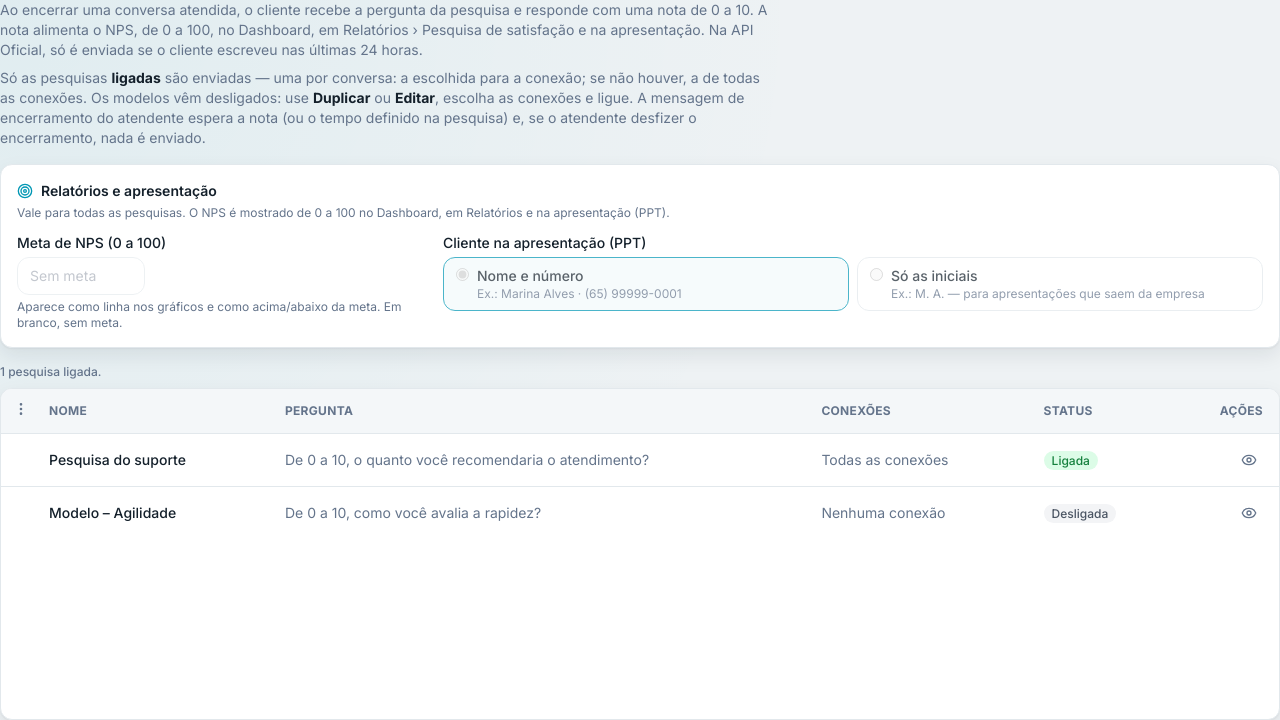
Scenario: Respostas › Pesquisa: lista de pesquisas › quem só pode ver abre a pesquisa travada, sem criar, duplicar nem excluir
Click the button named "Ver Pesquisa do suporte" at [1249, 460], box [1235, 446, 1263, 474]
(page scrolled)
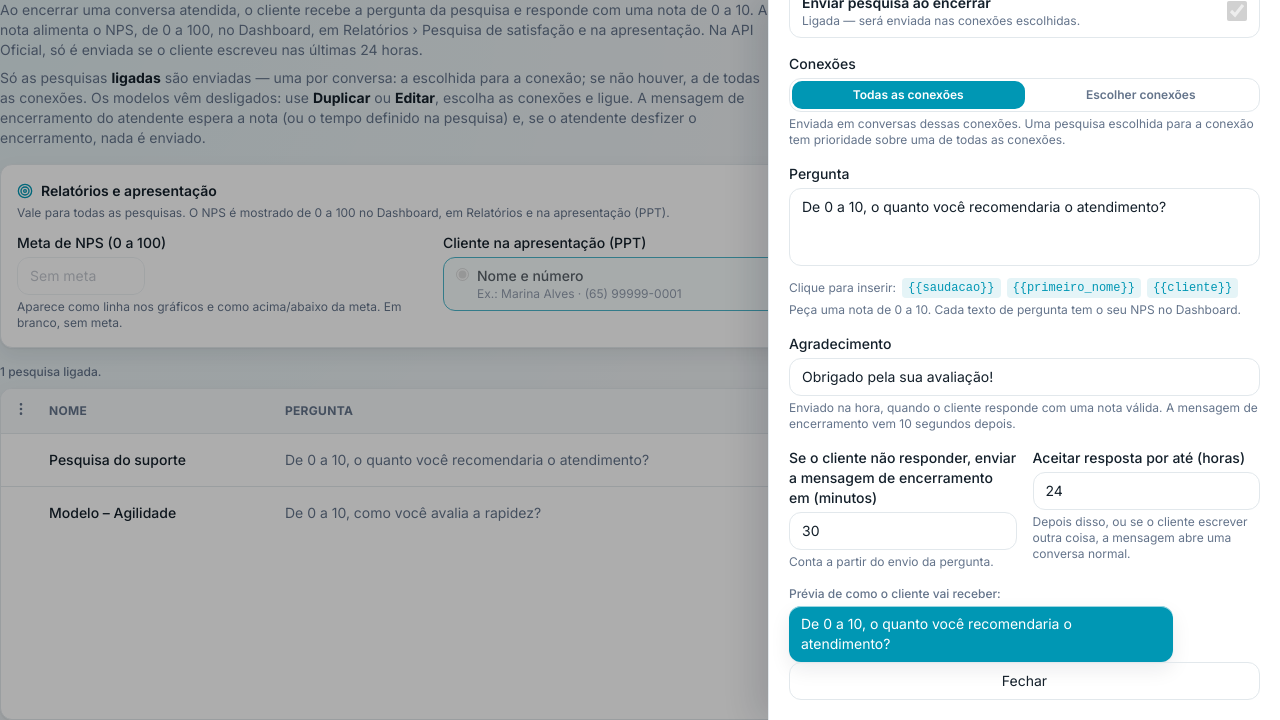
Now the number field labelled "Se o cliente não responder, enviar a mensagem de encerramento em" is disabled, box [789, 512, 1016, 550]
